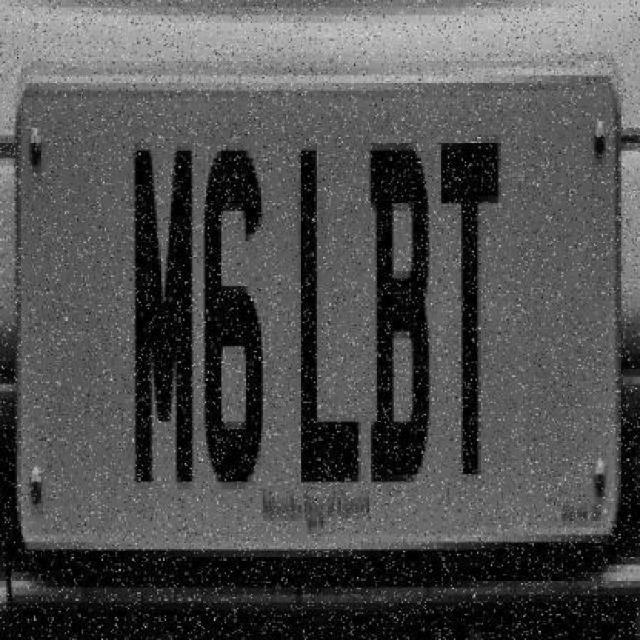licenseplate: (11, 66, 627, 566)
